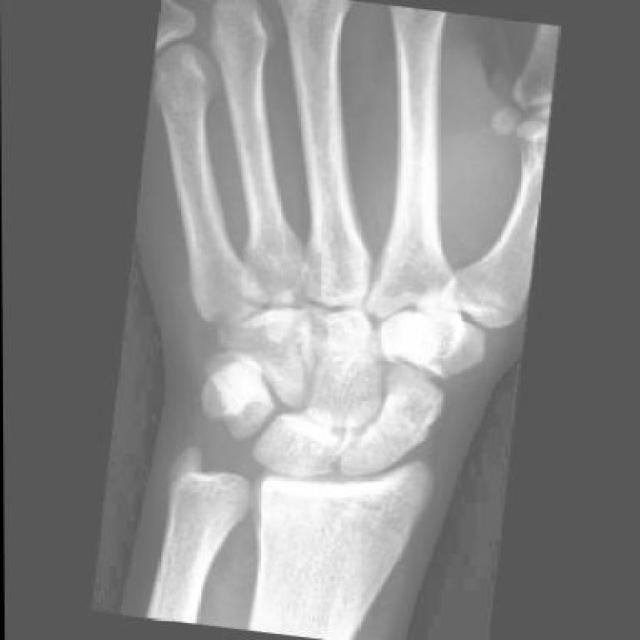Fracture: (349, 398, 434, 460)
